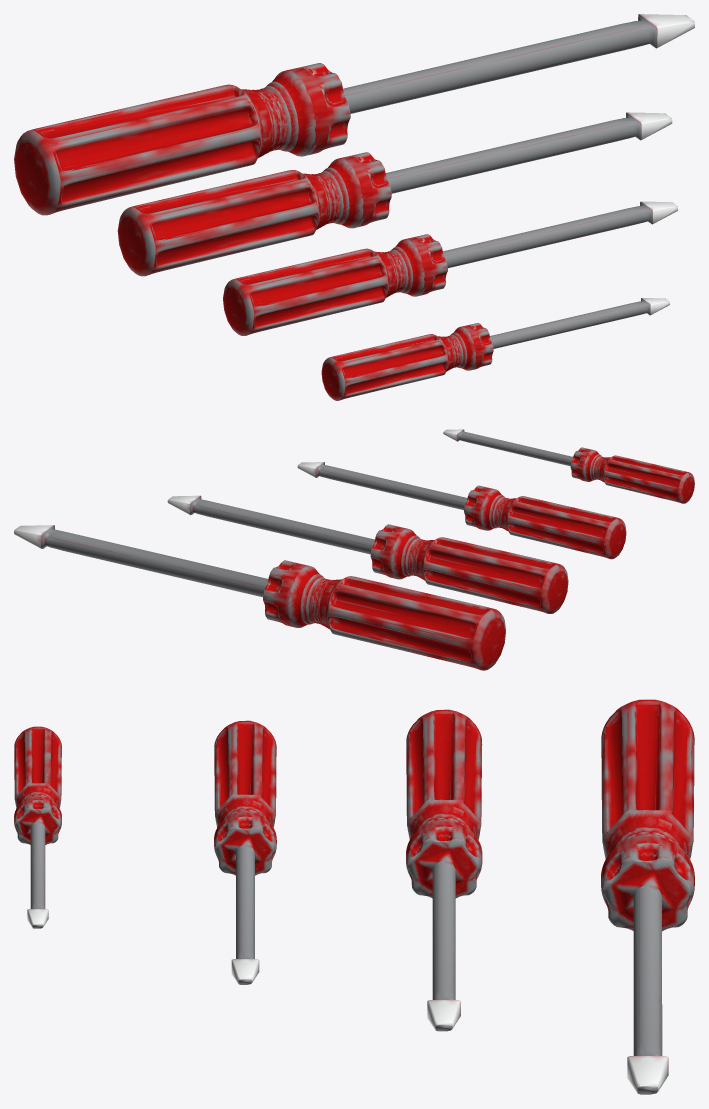
The model's file is cacciaviti.gltf.
The picture shows the model from 3 angles, top to bottom: view 1: azimuth 30°, elevation 25°; view 2: azimuth 150°, elevation 25°; view 3: azimuth 270°, elevation 25°; orthographic projection. The views are drawn at different scales.
Visible parts, largest first — view 1: Assistenza Tecnica Valigetta Bassa Cacciavite 1, Assistenza Tecnica Valigetta Bassa Cacciavite 2, Assistenza Tecnica Valigetta Bassa Cacciavite 3, Assistenza Tecnica Valigetta Bassa Cacciavite 4; view 2: Assistenza Tecnica Valigetta Bassa Cacciavite 1, Assistenza Tecnica Valigetta Bassa Cacciavite 2, Assistenza Tecnica Valigetta Bassa Cacciavite 3, Assistenza Tecnica Valigetta Bassa Cacciavite 4; view 3: Assistenza Tecnica Valigetta Bassa Cacciavite 1, Assistenza Tecnica Valigetta Bassa Cacciavite 2, Assistenza Tecnica Valigetta Bassa Cacciavite 3, Assistenza Tecnica Valigetta Bassa Cacciavite 4.
Part boxes in pixels (left/top/right/bottom): Assistenza Tecnica Valigetta Bassa Cacciavite 1: left=14, top=14, right=694, bottom=215; Assistenza Tecnica Valigetta Bassa Cacciavite 2: left=117, top=112, right=672, bottom=276; Assistenza Tecnica Valigetta Bassa Cacciavite 3: left=223, top=201, right=677, bottom=335; Assistenza Tecnica Valigetta Bassa Cacciavite 4: left=321, top=298, right=669, bottom=400; Assistenza Tecnica Valigetta Bassa Cacciavite 1: left=14, top=525, right=505, bottom=670; Assistenza Tecnica Valigetta Bassa Cacciavite 2: left=167, top=495, right=568, bottom=613; Assistenza Tecnica Valigetta Bassa Cacciavite 3: left=297, top=462, right=626, bottom=559; Assistenza Tecnica Valigetta Bassa Cacciavite 4: left=443, top=429, right=694, bottom=503; Assistenza Tecnica Valigetta Bassa Cacciavite 1: left=601, top=699, right=694, bottom=1094; Assistenza Tecnica Valigetta Bassa Cacciavite 2: left=406, top=709, right=482, bottom=1031; Assistenza Tecnica Valigetta Bassa Cacciavite 3: left=214, top=720, right=276, bottom=984; Assistenza Tecnica Valigetta Bassa Cacciavite 4: left=14, top=726, right=61, bottom=928.
Bounding box in the file's own units: 0.1231 × 0.0146 × 0.1025.
Materials: 1 (1 with a texture image).
